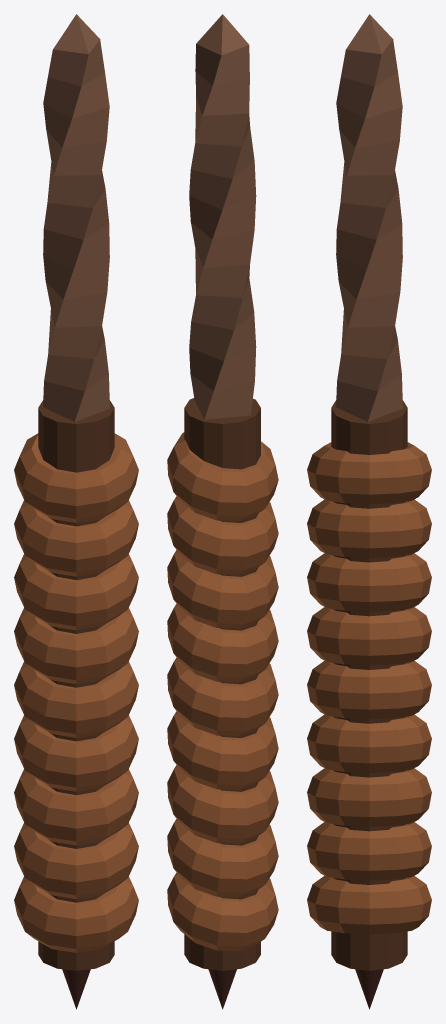
File: Wand 452.glb
The picture shows the model from 3 angles, left to right: view 1: azimuth 90°, elevation 25°; view 2: azimuth 150°, elevation 25°; view 3: azimuth 270°, elevation 25°; orthographic projection.
Parts seen in each view (by area): view 1: GeneratedWand; view 2: GeneratedWand; view 3: GeneratedWand.
Part boxes in pixels (bbox=[...]): GeneratedWand: bbox=[14, 14, 138, 1009]; GeneratedWand: bbox=[167, 14, 278, 1009]; GeneratedWand: bbox=[307, 14, 431, 1009].
Bounding box in the file's own units: 0.0497 × 0.5112 × 0.0581.
